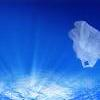Trash: (69, 22, 98, 74)
